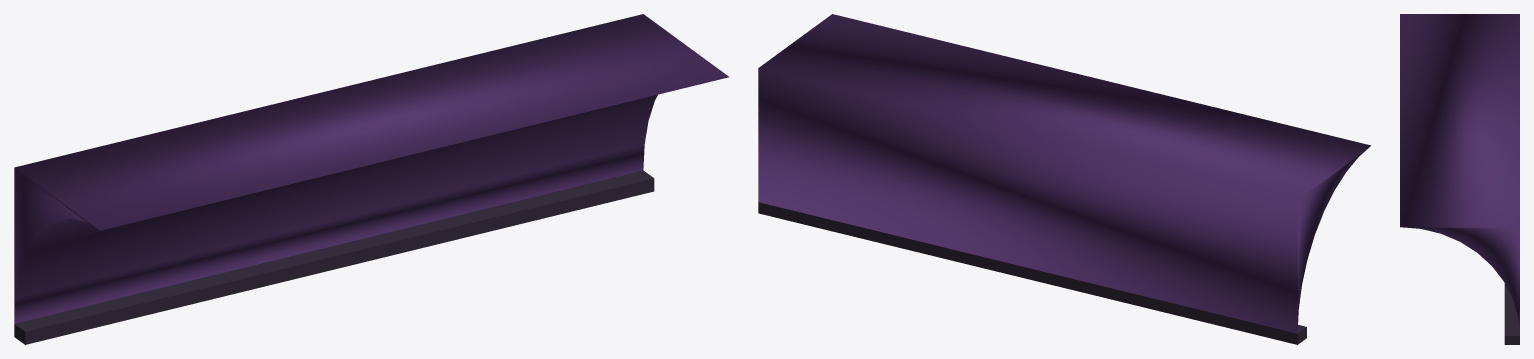
Rendered from SM_SB_Kit_AlienWallCove.fbx.
3 renders of one model, left to right at view 1: azimuth 30°, elevation 25°; view 2: azimuth 150°, elevation 25°; view 3: azimuth 270°, elevation 25°, orthographic. The views are drawn at different scales.
Parts seen in each view (by area): view 1: SM_SB_Kit_AlienWallCove; view 2: SM_SB_Kit_AlienWallCove; view 3: SM_SB_Kit_AlienWallCove.
Part boxes in pixels (x1,y1,x2,y2): SM_SB_Kit_AlienWallCove: [14, 14, 729, 344]; SM_SB_Kit_AlienWallCove: [758, 14, 1371, 344]; SM_SB_Kit_AlienWallCove: [1400, 14, 1519, 344].
Size of the model in its own units: 400 by 95 by 103.
